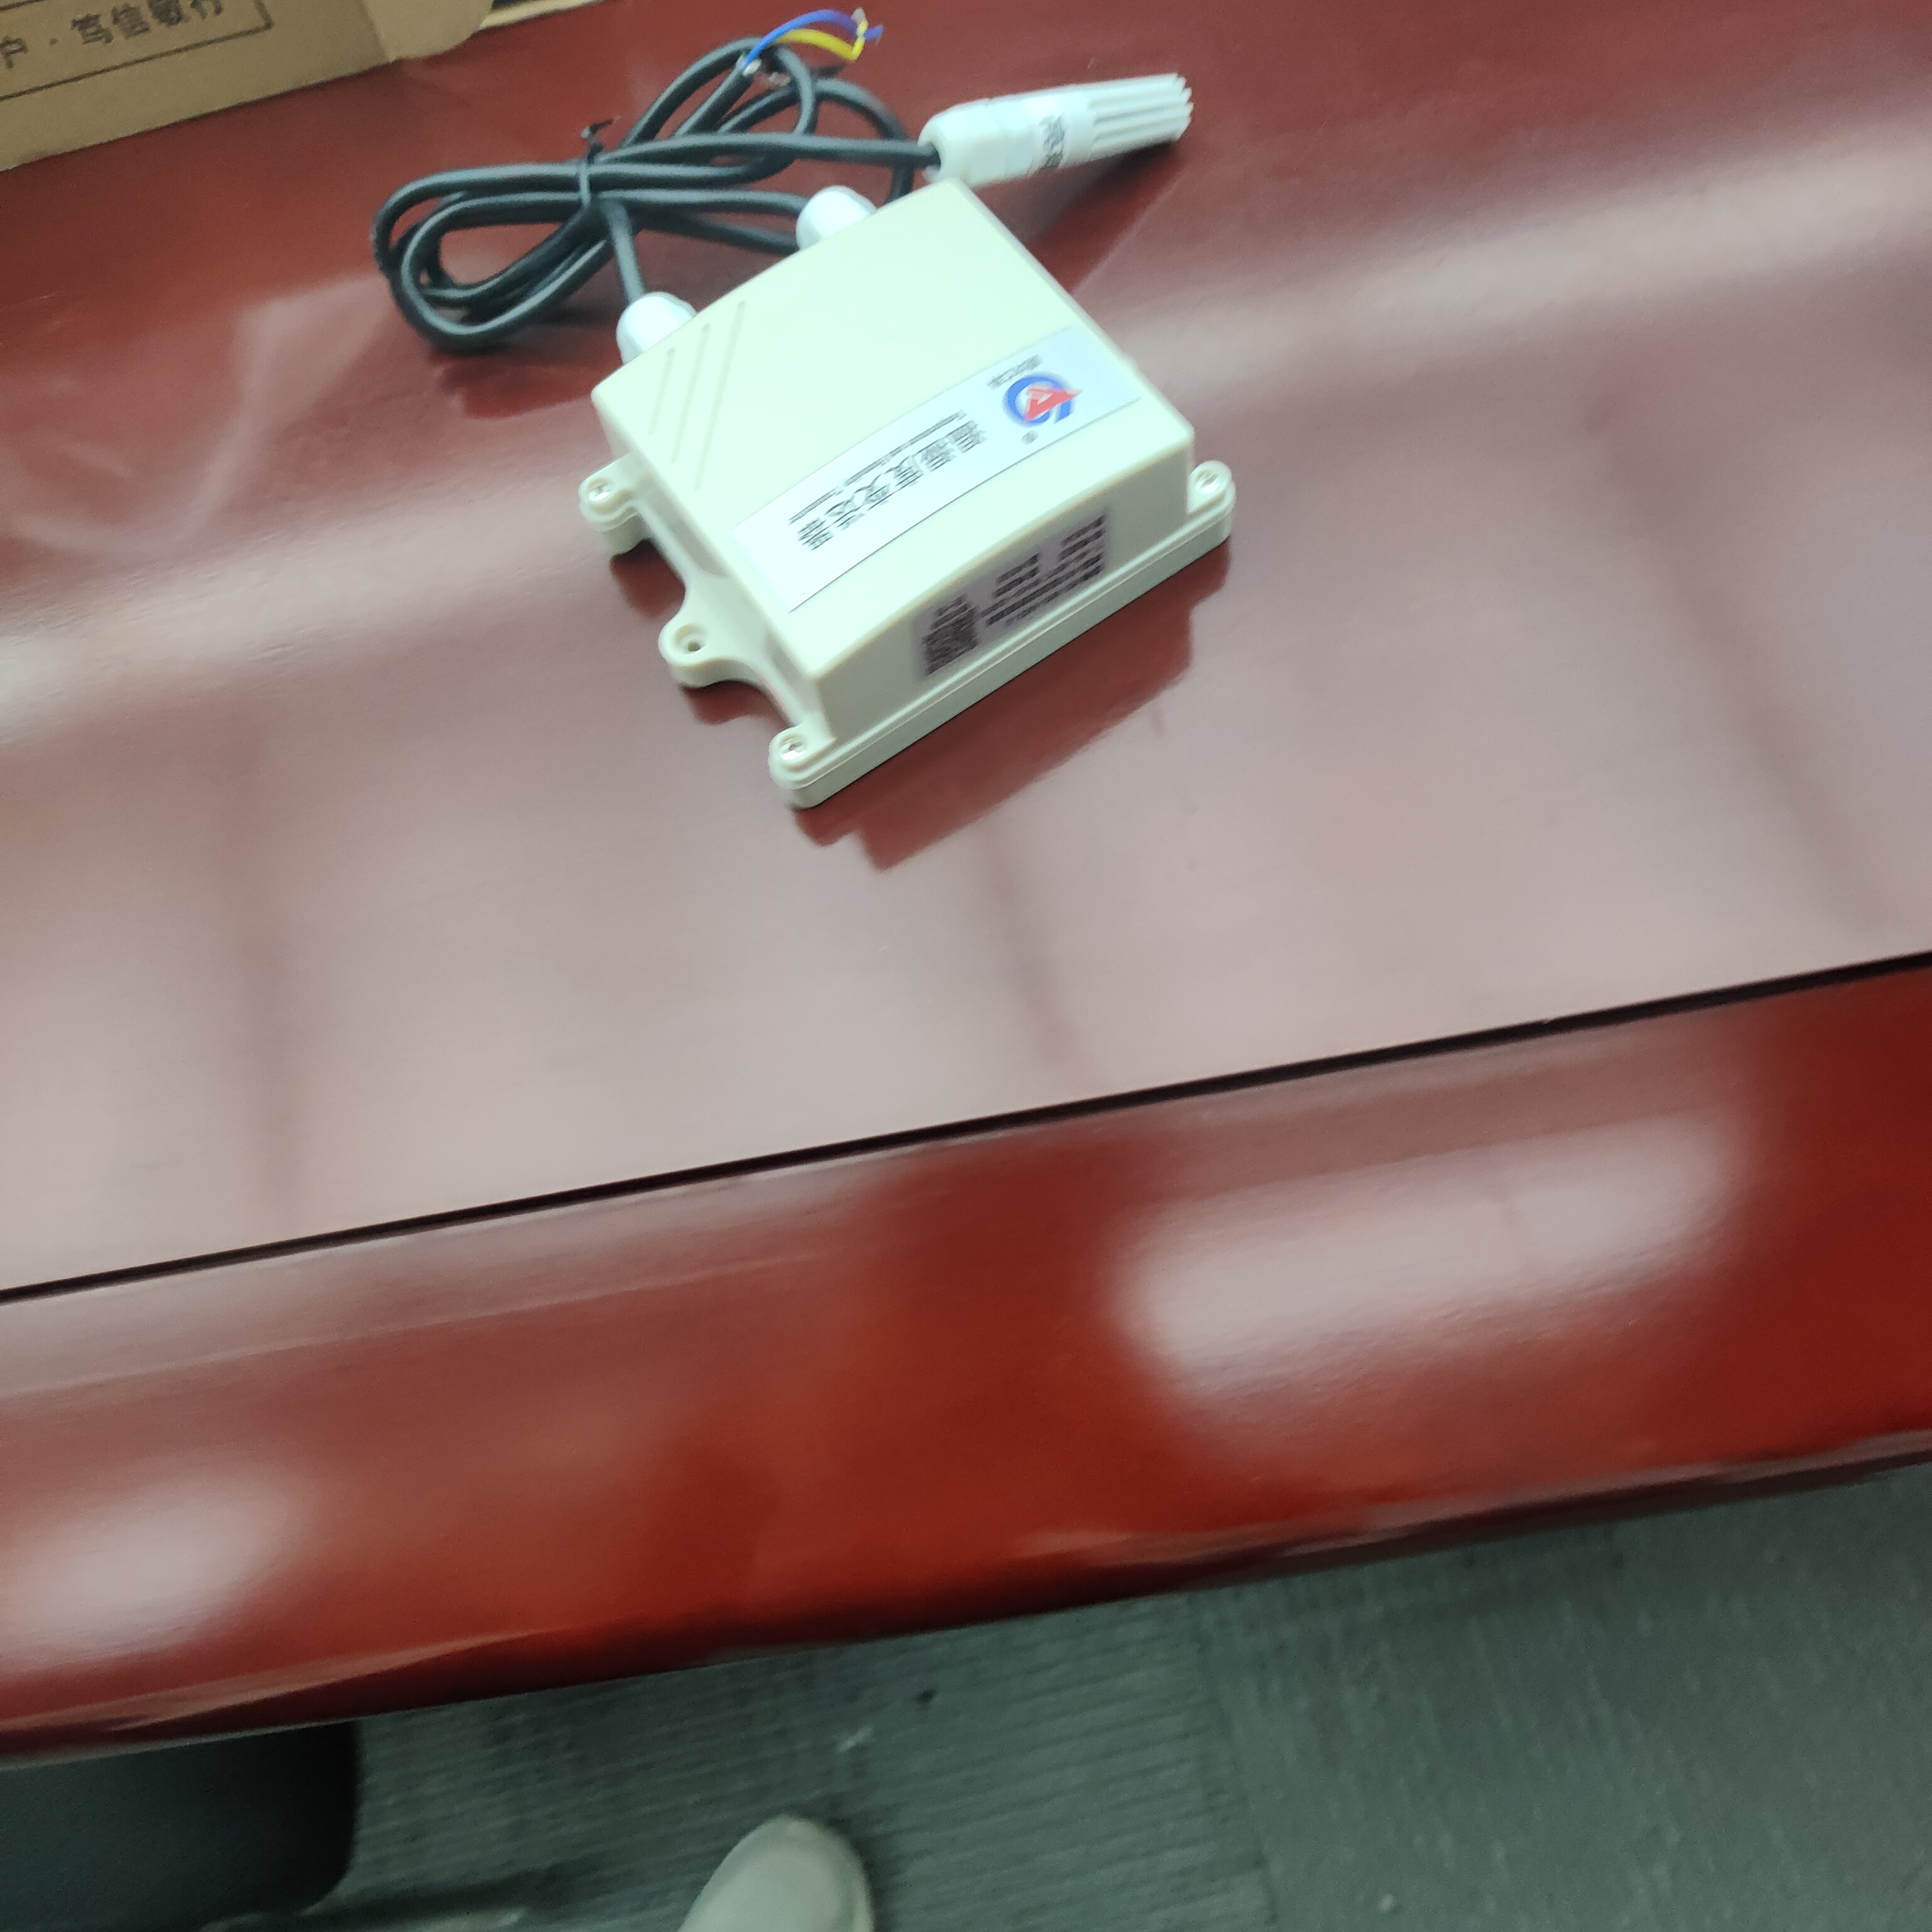wsdbsq: (570, 195, 1263, 837)
